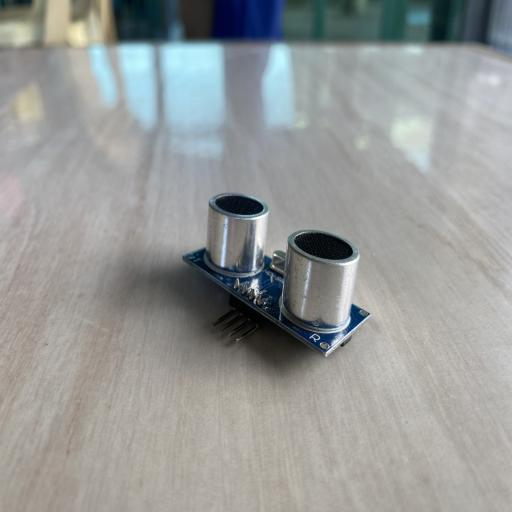Ultrasonic Sensor: (182, 192, 371, 359)
